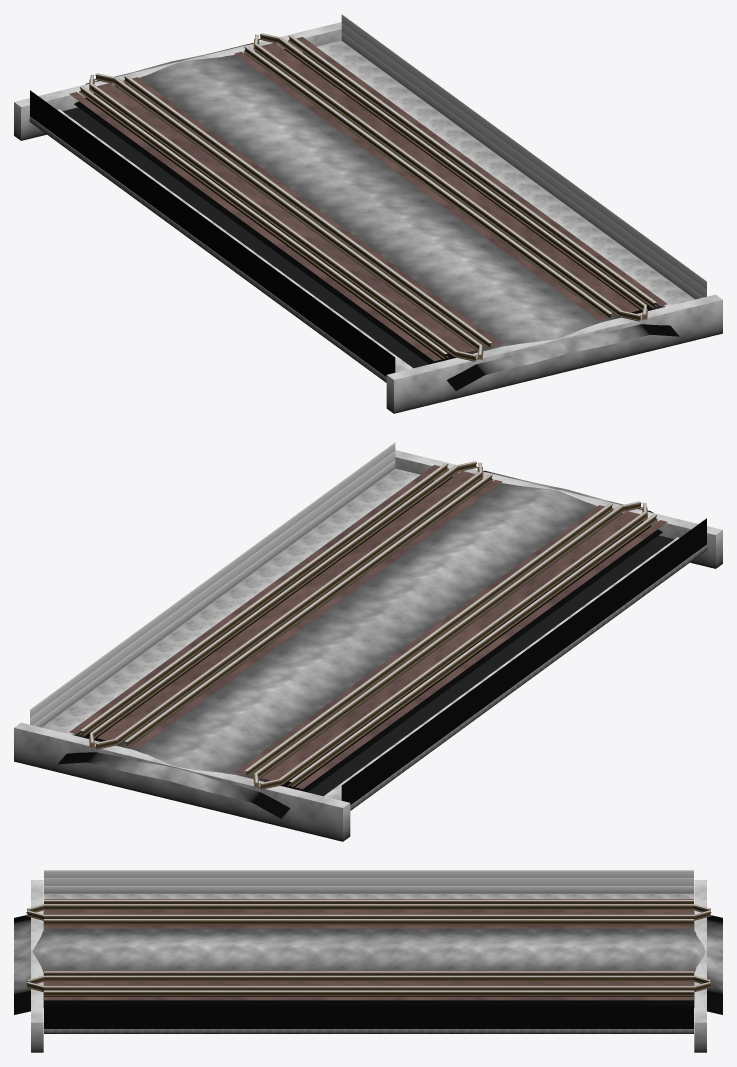
Rendered from NK_2RAIL_BRIDGE_MIMAN.glb.
The picture shows the model from 3 angles, top to bottom: view 1: azimuth 30°, elevation 25°; view 2: azimuth 150°, elevation 25°; view 3: azimuth 270°, elevation 25°; orthographic projection. The views are drawn at different scales.
Visible parts, largest first — view 1: obj14, J08, J00; view 2: obj14, J00, J08; view 3: obj14, J08, J00.
Boxes of the visible parts, left/top/right/bottom form: obj14: left=29, top=14, right=706, bottom=390; J08: left=386, top=294, right=722, bottom=413; J00: left=14, top=22, right=341, bottom=140; obj14: left=30, top=442, right=707, bottom=818; J00: left=14, top=722, right=350, bottom=841; J08: left=395, top=450, right=722, bottom=568; obj14: left=14, top=870, right=722, bottom=1033; J08: left=26, top=880, right=43, bottom=1052; J00: left=694, top=880, right=711, bottom=1052.
Bounding box in the file's own units: 26 × 3.68 × 54.53.
12 materials, 9 textured.
